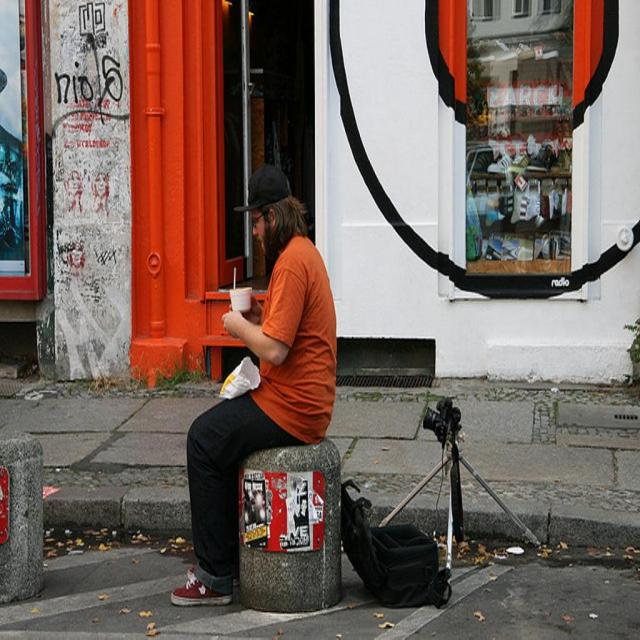nomask: (250, 206, 268, 254)
